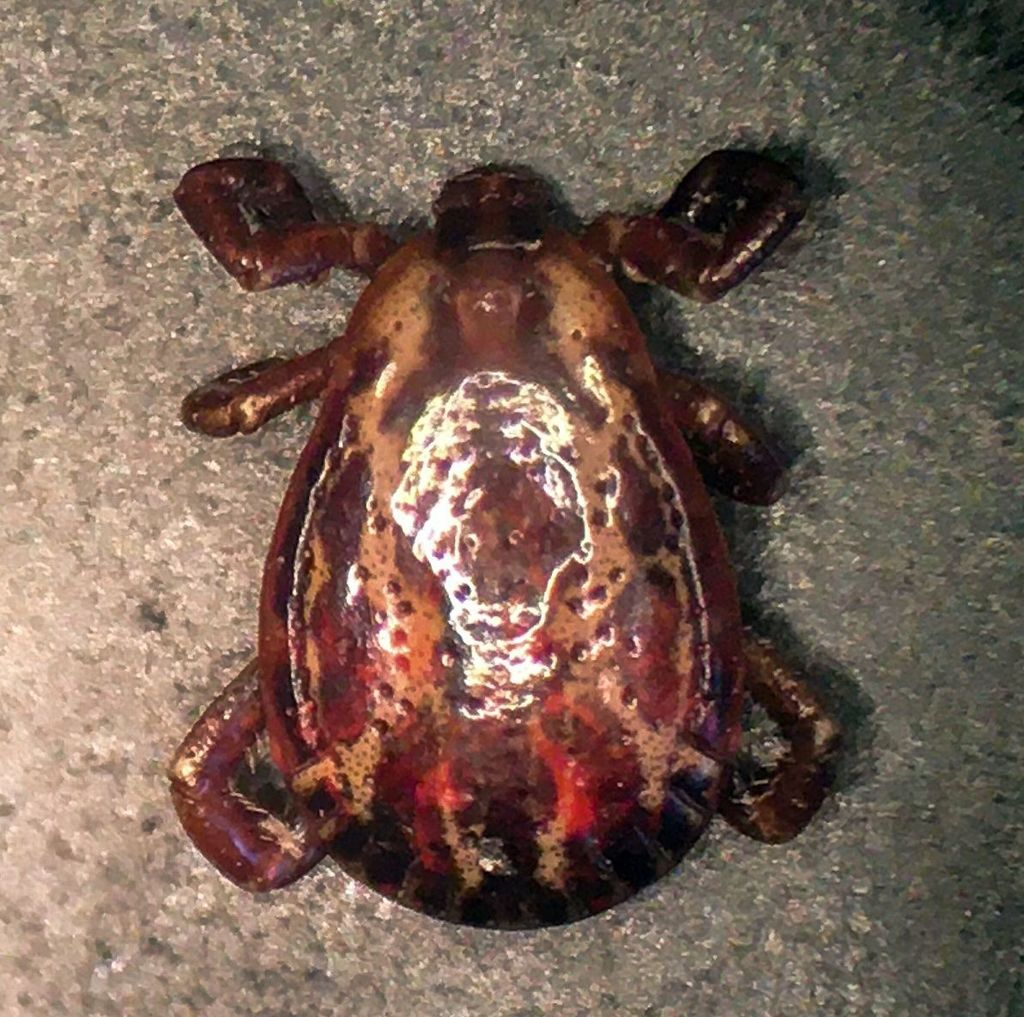garrapata: (144, 135, 857, 947)
